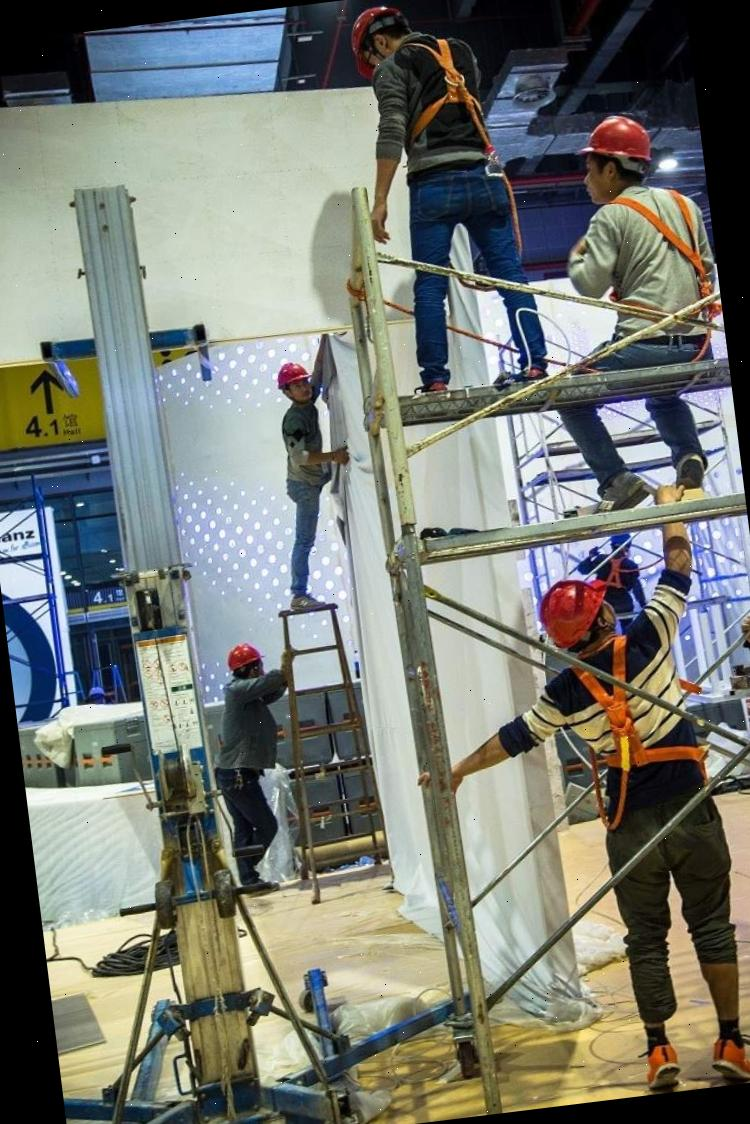helmet: (578, 108, 654, 176), (344, 0, 408, 58), (222, 638, 266, 676), (274, 356, 311, 390)
no_wear: (372, 27, 505, 197), (558, 630, 682, 781), (586, 188, 706, 335), (220, 679, 279, 780), (280, 402, 330, 496)
